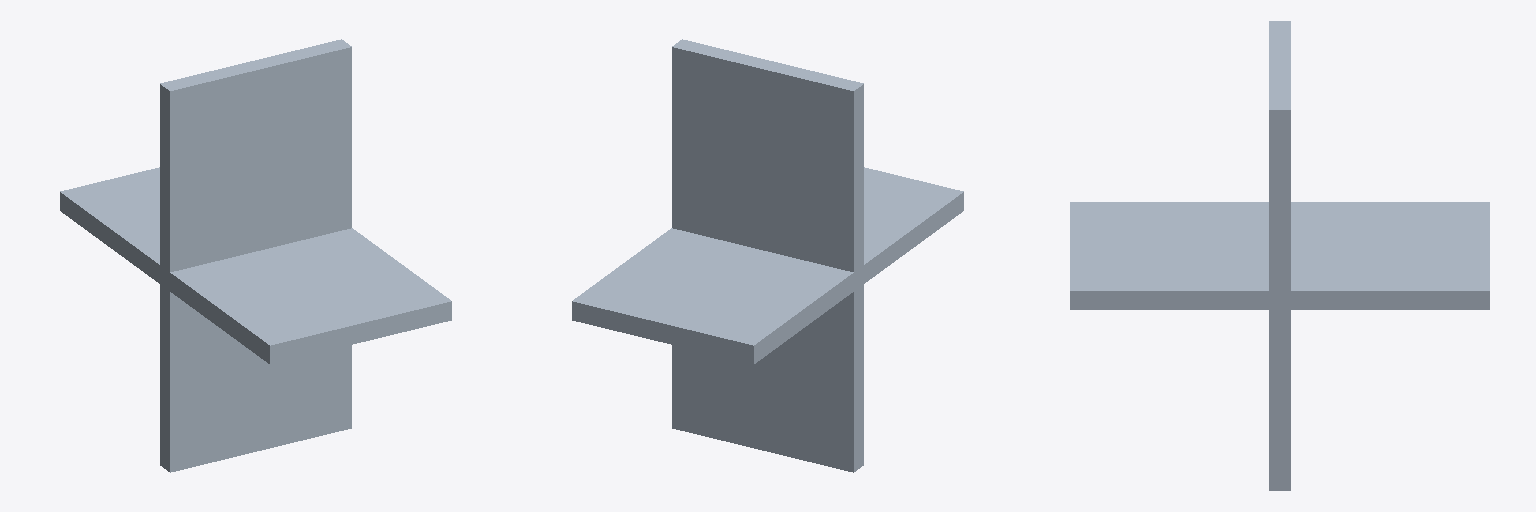
The model's file is Windmill.obj.
3 views of the same model, side by side, from view 1: azimuth 30°, elevation 25°; view 2: azimuth 150°, elevation 25°; view 3: azimuth 270°, elevation 25° (orthographic).
Visible parts, largest first — view 1: Windmill; view 2: Windmill; view 3: Windmill.
Boxes of the visible parts, <box> form: Windmill: <box>60,39,451,472</box>; Windmill: <box>572,39,963,472</box>; Windmill: <box>1070,21,1489,490</box>.
Bounding box in the file's own units: 5 × 10 × 10.